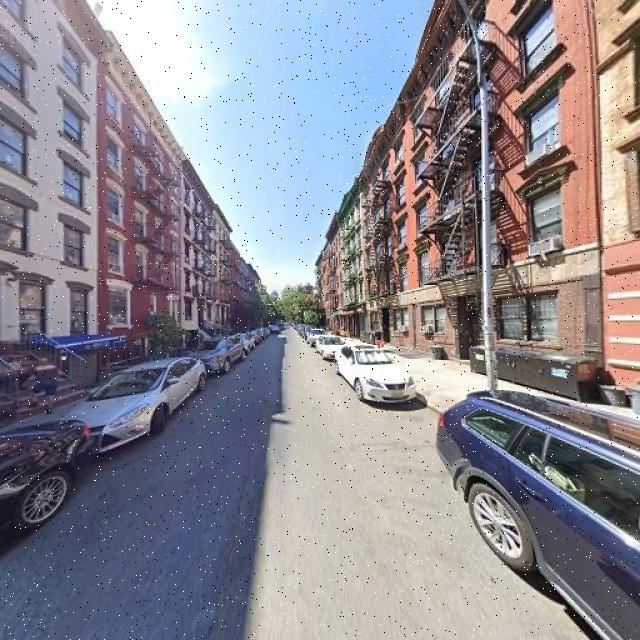Building: (413, 1, 589, 388), (1, 1, 95, 393), (102, 25, 178, 365), (597, 1, 640, 399), (365, 93, 410, 347)
